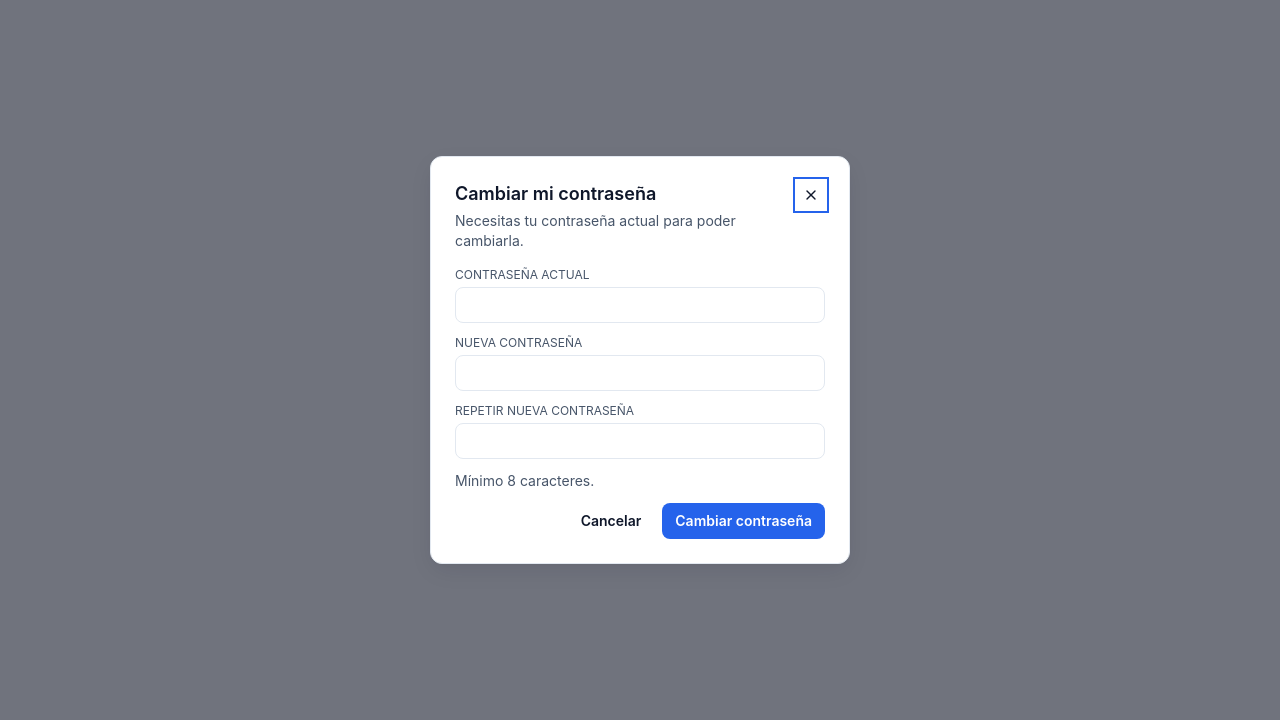
Test case: seguridad · resultado y limpieza › al acertar, lo confirma y VACÍA los campos
In the password field labelled "Contraseña actual": (640, 305) [455,287,825,323], type "clave-actual-1"
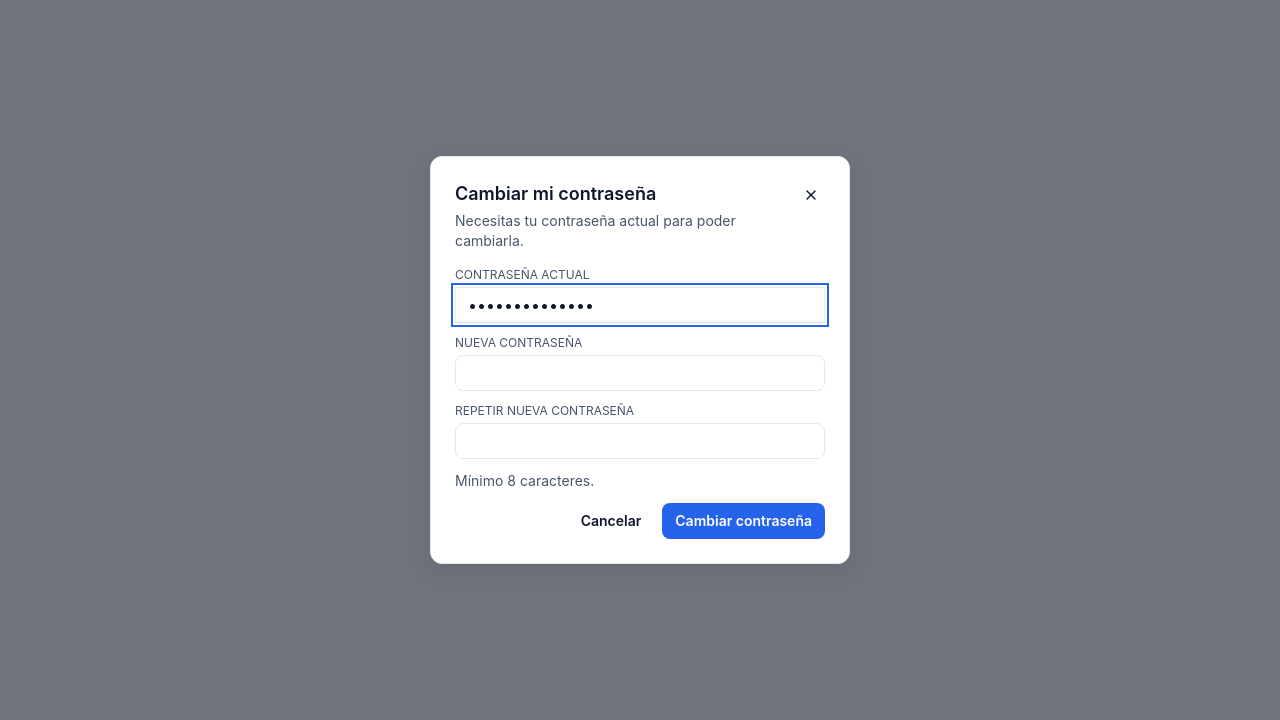
In the password field labelled "Nueva contraseña": (640, 373) [455,355,825,391], type "clave-nueva-larga"
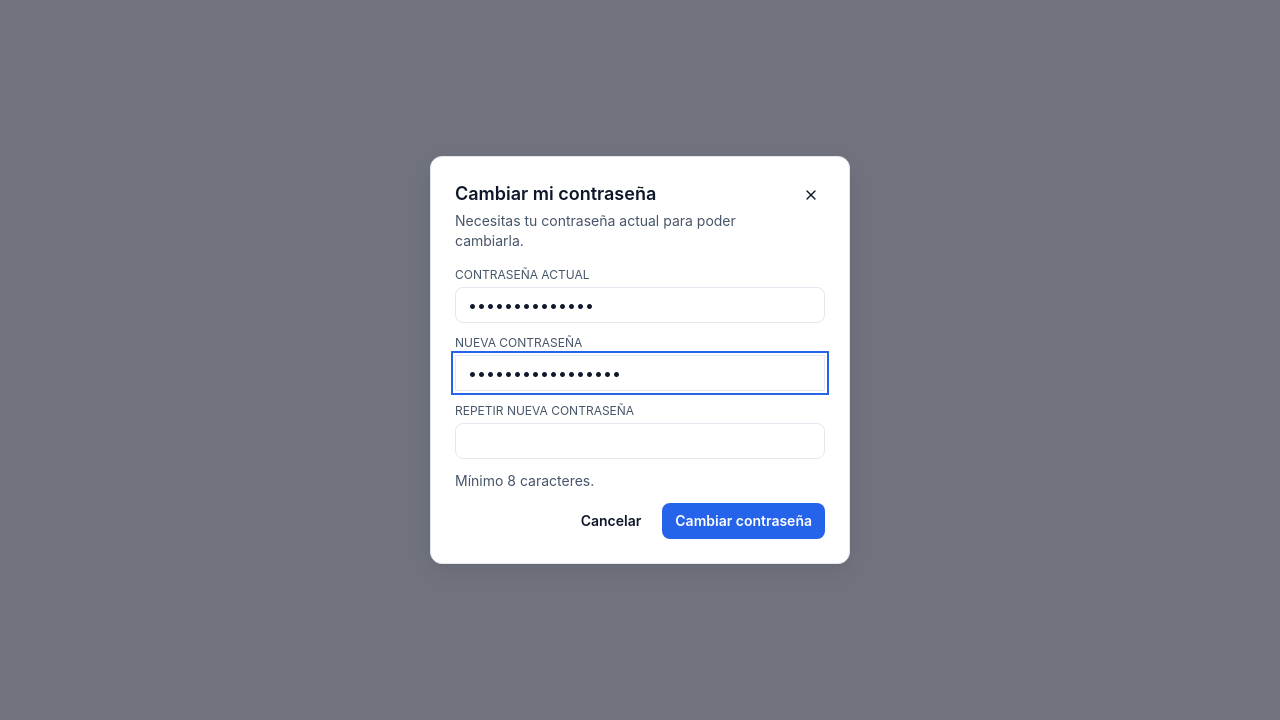
In the password field labelled "Repetir nueva contraseña": (640, 441) [455,423,825,459], type "clave-nueva-larga"
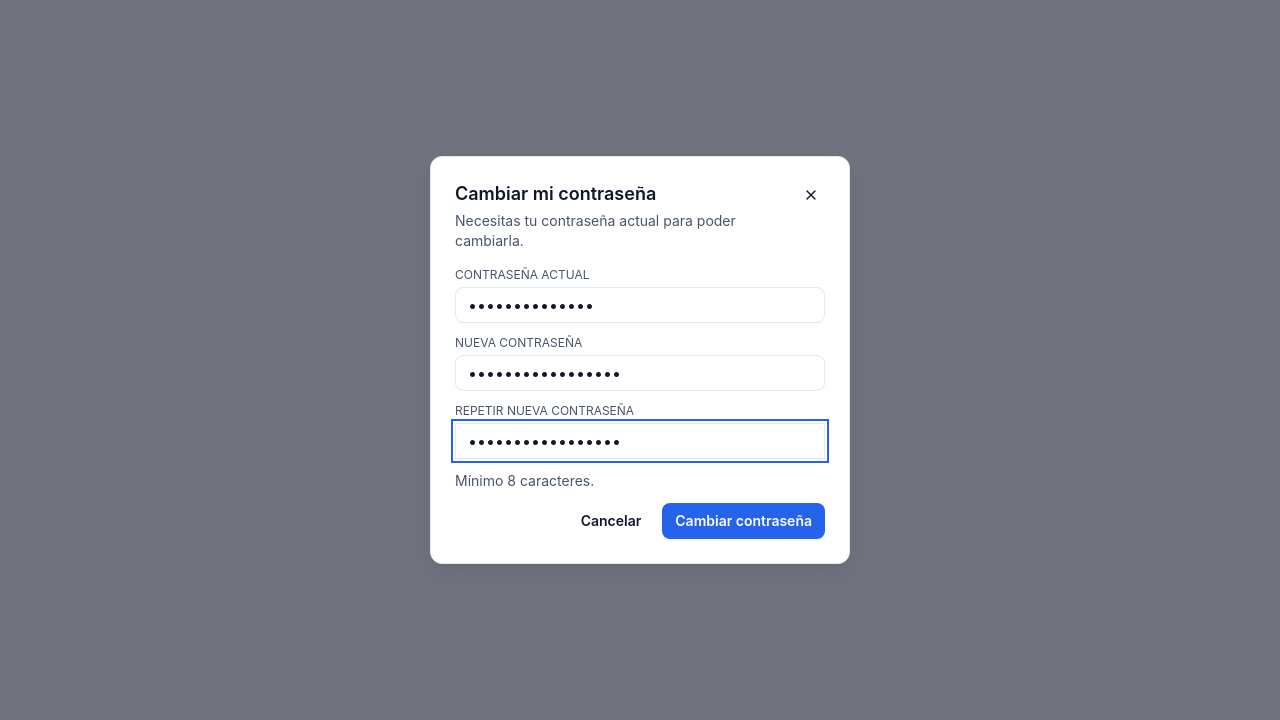
Click the button "Cambiar contraseña": (744, 521) [662,503,825,539]
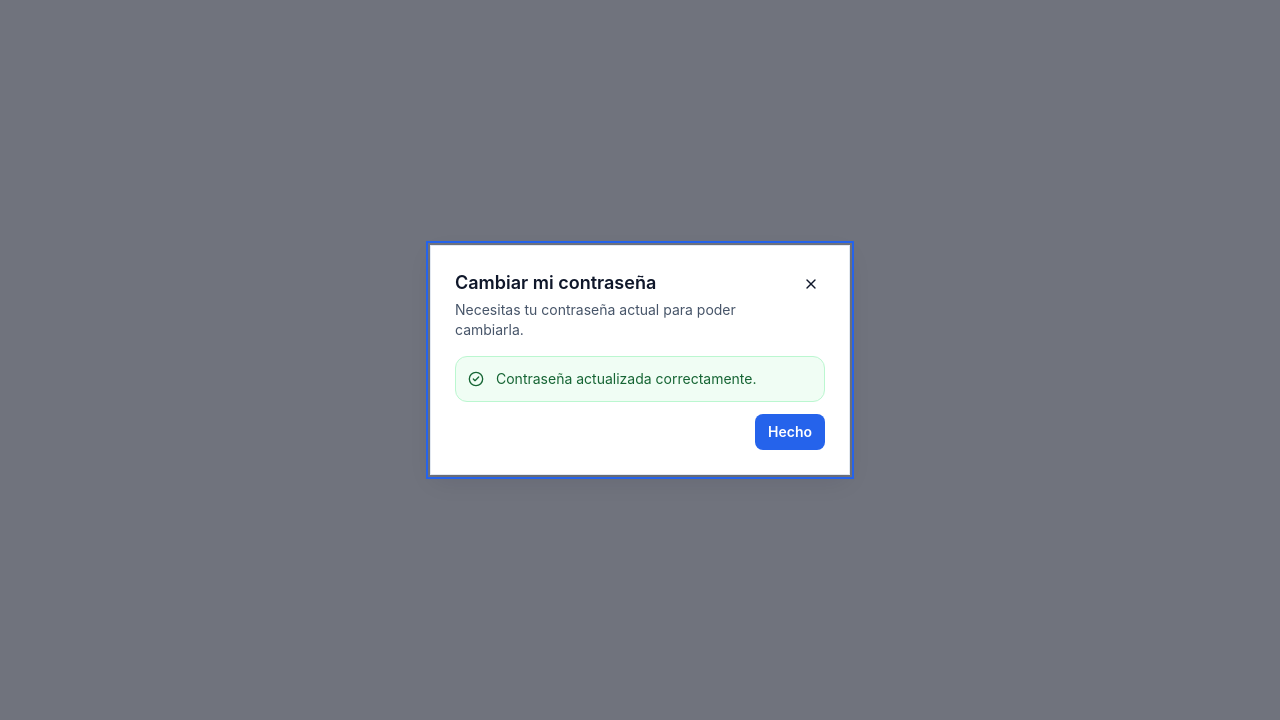
Now the text "Contraseña actualizada correctamente." is shown, box [496,370,756,387]
